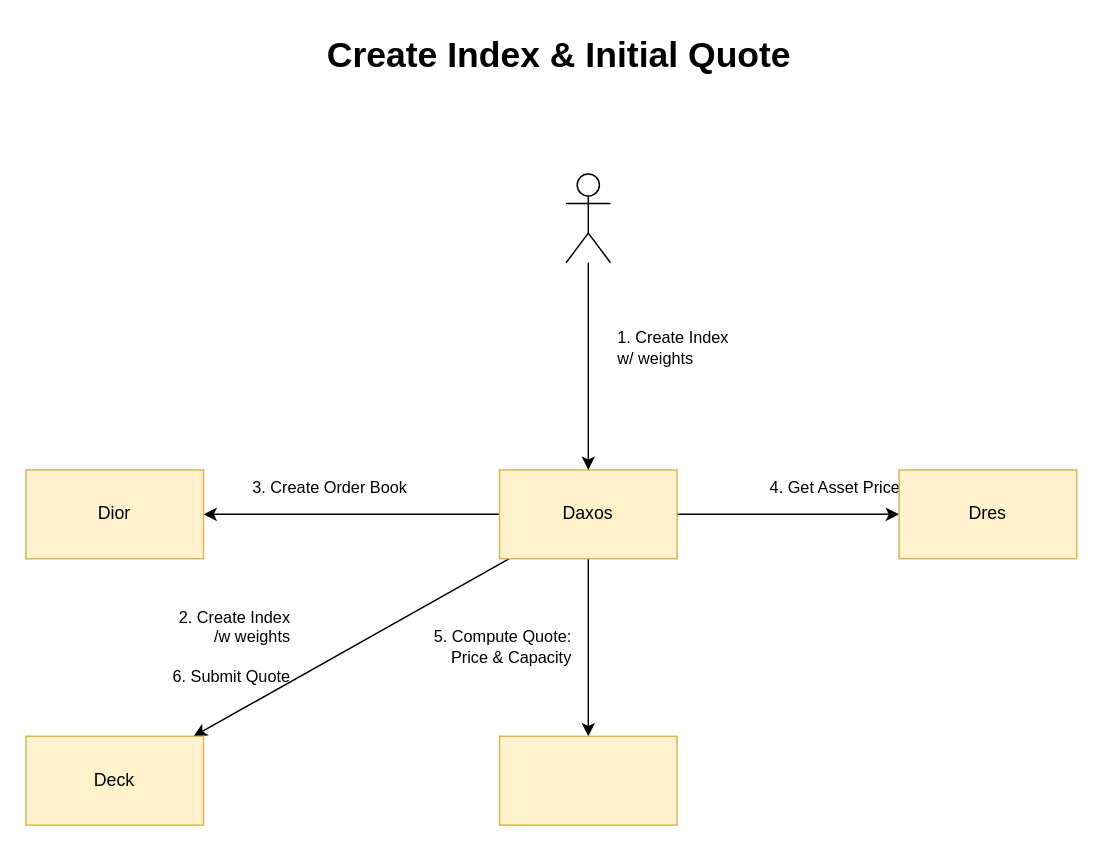
Some shapes in this 1103 by 851 pixel diagram are drawn without their labels. Each missing label, with the box of its shape:
Disolver: (498, 735, 677, 825)
Issuer: (565, 172, 610, 263)
